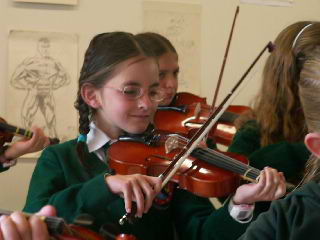person: (23, 32, 288, 240)
